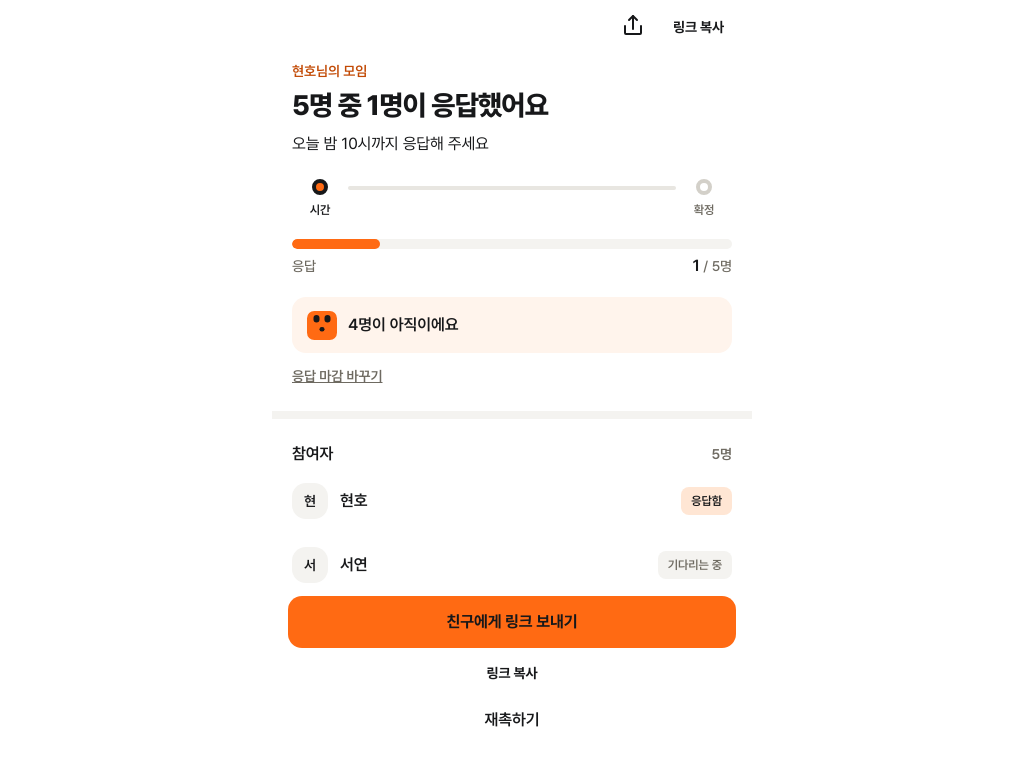
고를 마감이 없어도 이미 마감이 있으면 바꾸기로 열어 없앨 수 있다
Click the button "응답 마감 바꾸기": (337, 376) [292, 365, 382, 386]
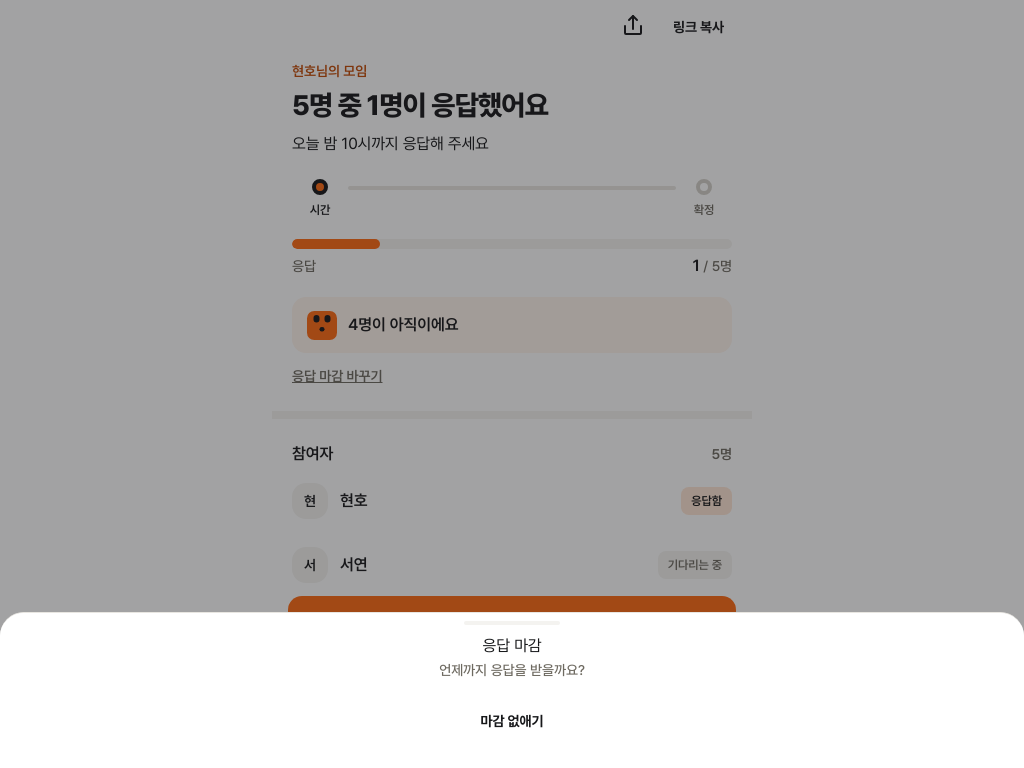
Check: the button "마감 없애기" is shown, box [20, 700, 1004, 740]
